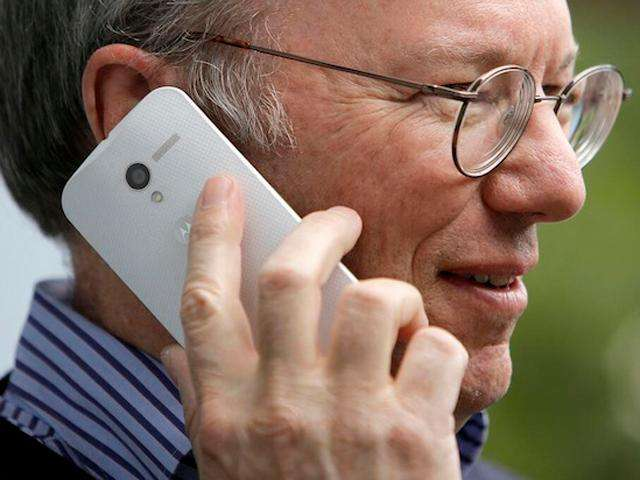calling: (53, 80, 469, 477)
